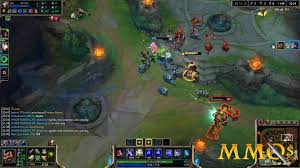bar: (208, 95, 233, 102), (150, 35, 176, 41), (180, 50, 204, 56)
